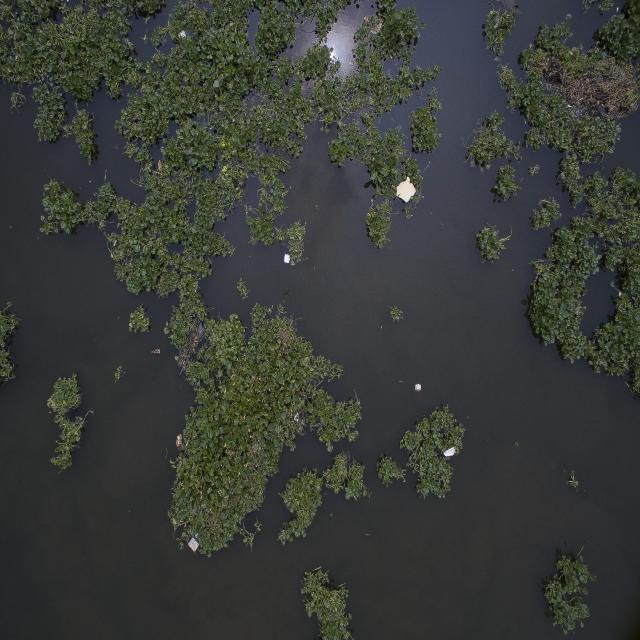debris: (395, 176, 417, 204), (367, 17, 387, 34), (187, 535, 200, 556), (173, 431, 185, 452), (177, 27, 188, 45), (444, 445, 456, 460), (109, 238, 121, 252), (157, 158, 165, 175), (151, 346, 162, 357), (282, 253, 292, 265), (292, 410, 300, 425), (614, 6, 622, 17)
plastic: (191, 321, 206, 340), (414, 382, 424, 394)
